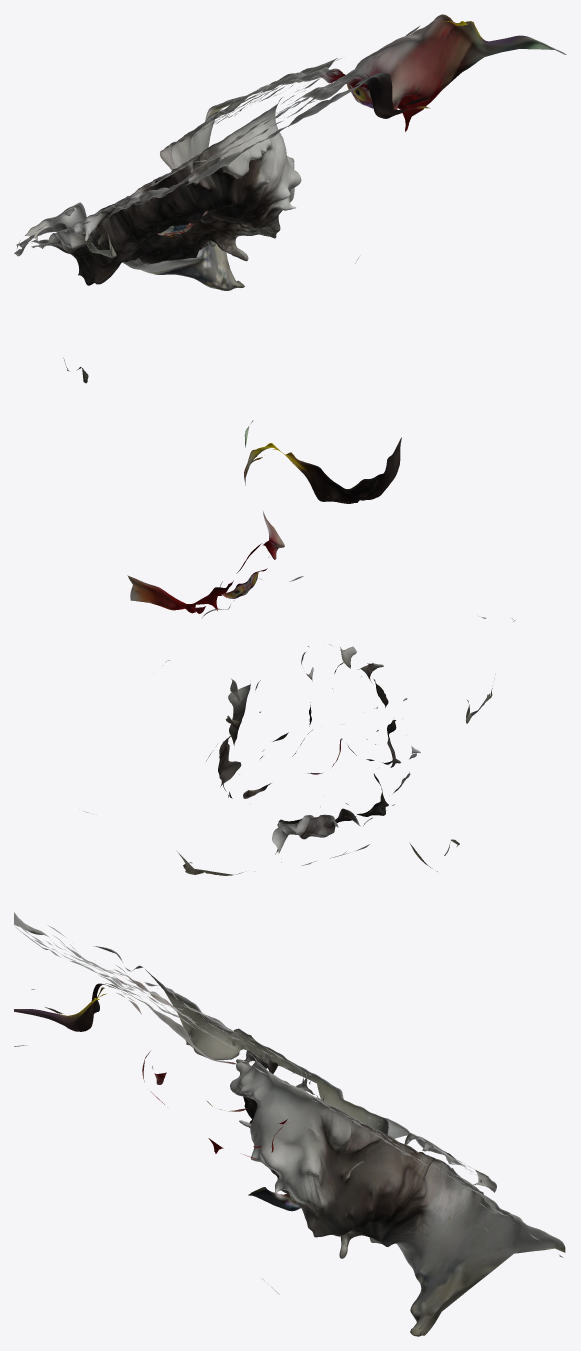
3 views of the same model, one above another, from view 1: azimuth 30°, elevation 25°; view 2: azimuth 150°, elevation 25°; view 3: azimuth 270°, elevation 25° (orthographic). The views are drawn at different scales.
Bounding box in the file's own units: 1.73 × 1.64 × 2.19.
1 material, 1 textured.
